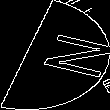N_W: (10, 28, 100, 82)
